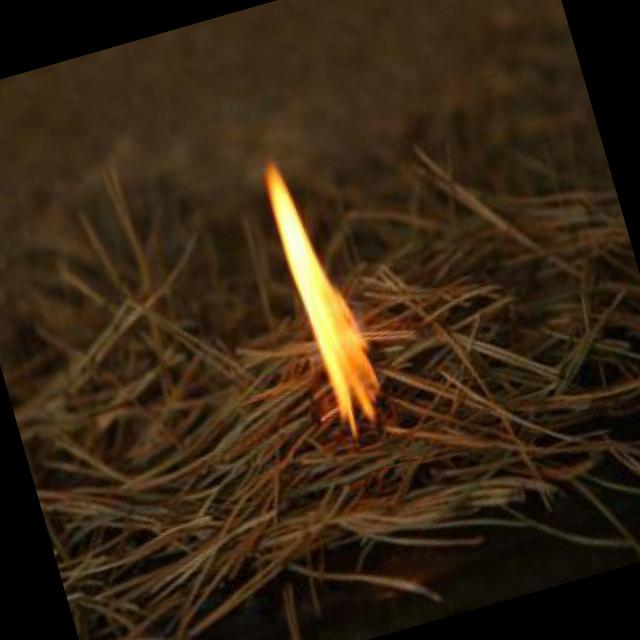fire: (240, 140, 394, 450)
